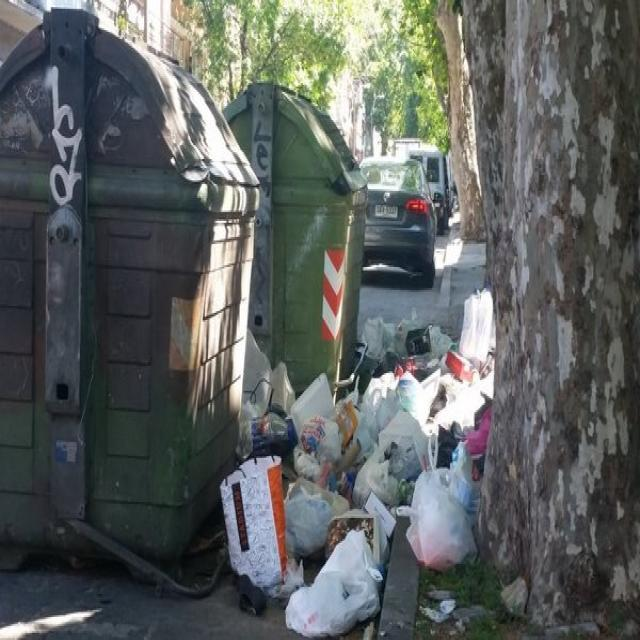garbage: (243, 345, 374, 626), (300, 382, 484, 570), (363, 314, 486, 414)
